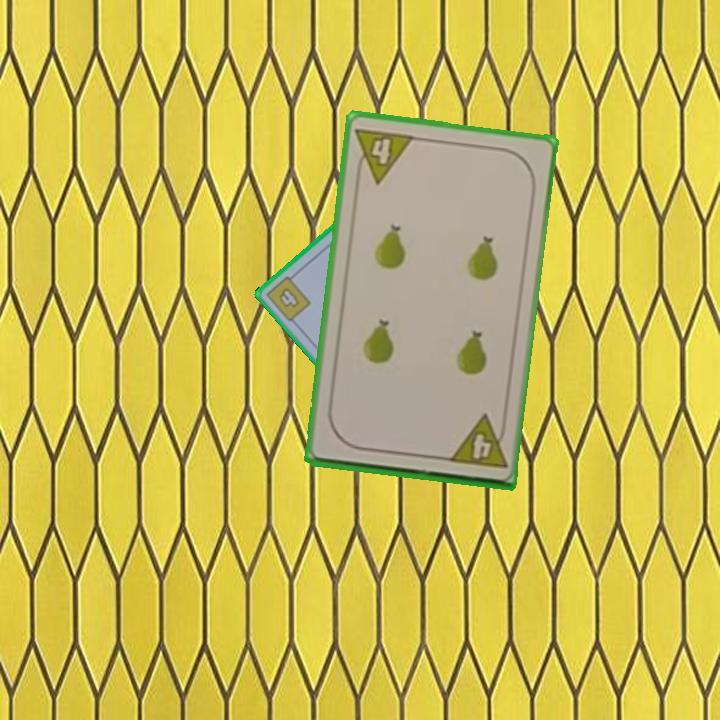4b: (262, 269, 314, 325)
4p: (351, 123, 417, 186), (444, 412, 510, 471)
